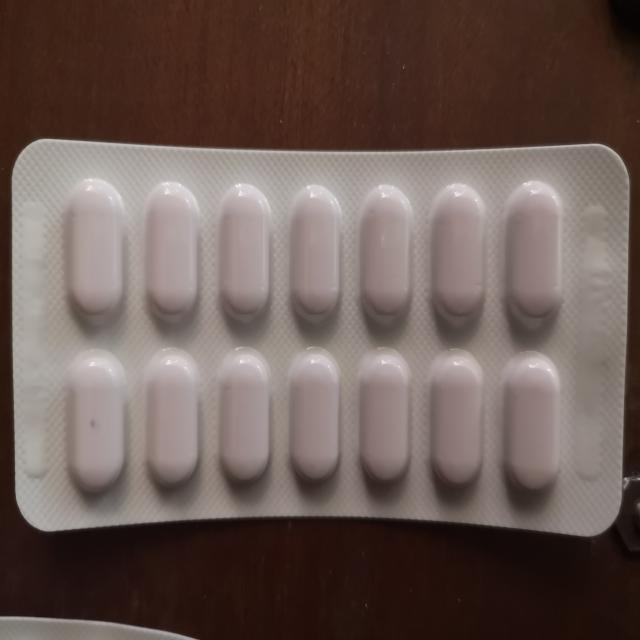Pill: (59, 173, 131, 330), (59, 346, 131, 502), (499, 175, 566, 331), (498, 344, 564, 502), (213, 174, 279, 329), (353, 340, 419, 494), (140, 176, 206, 329), (423, 345, 487, 501), (138, 346, 205, 494), (281, 342, 346, 489), (213, 341, 277, 489), (428, 174, 489, 329), (286, 176, 348, 328), (359, 176, 416, 336)
